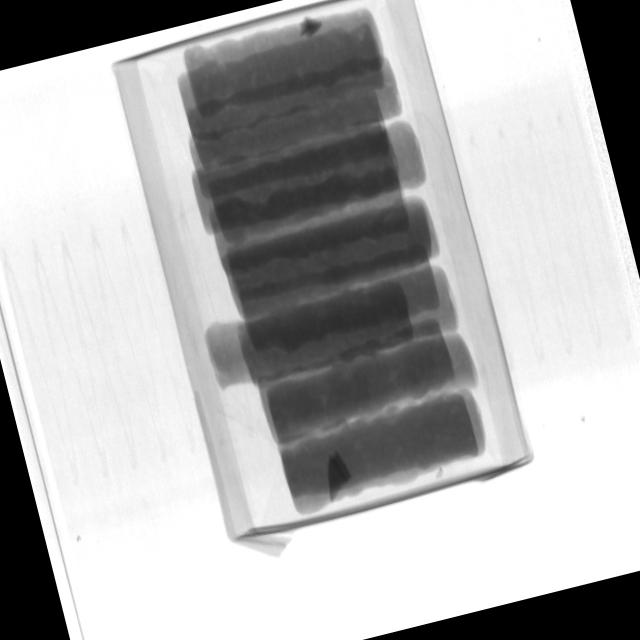ym: (319, 450, 355, 502), (297, 14, 326, 40), (434, 467, 445, 481)
